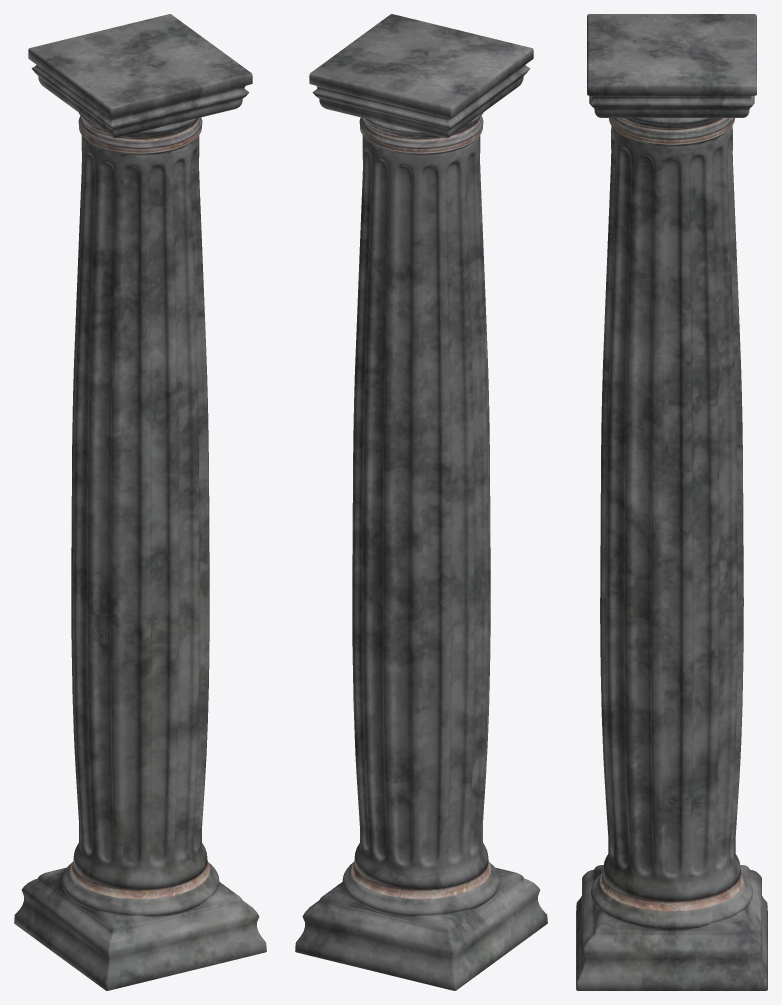
The model's file is columna.glb.
3 views of the same model, side by side, from view 1: azimuth 30°, elevation 25°; view 2: azimuth 150°, elevation 25°; view 3: azimuth 270°, elevation 25° (orthographic). The views are drawn at different scales.
Parts seen in each view (by area): view 1: Object_4; view 2: Object_4; view 3: Object_4.
Part boxes in pixels (x1,y1,x2,y2): Object_4: [14, 14, 266, 990]; Object_4: [295, 14, 547, 990]; Object_4: [576, 14, 767, 990].
Bounding box in the file's own units: 1.16 × 6.02 × 1.16.
1 material, 1 textured.
